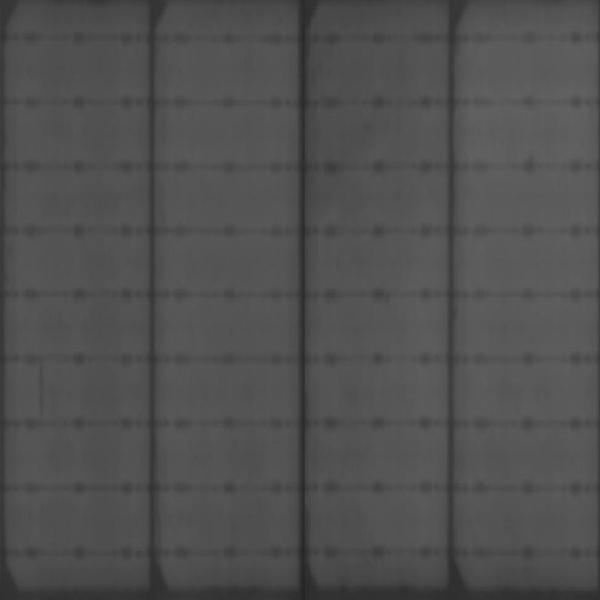scratch: (35, 358, 47, 421)
